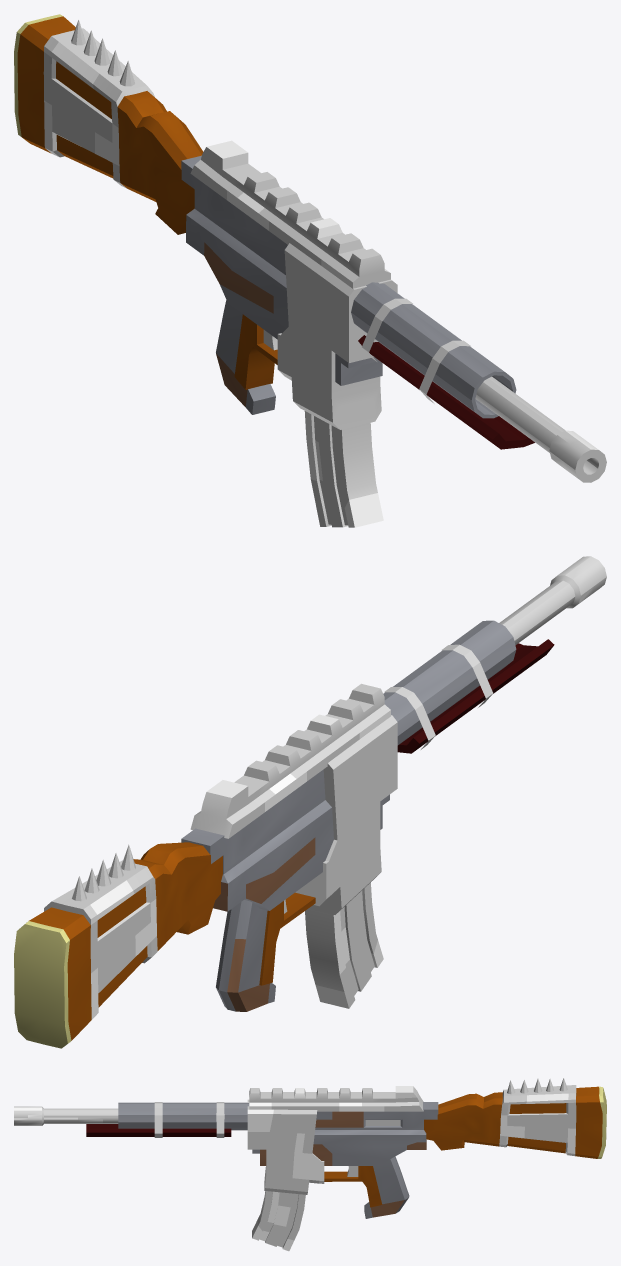
The model's file is Rifle.glb.
The picture shows the model from 3 angles, top to bottom: view 1: azimuth 30°, elevation 25°; view 2: azimuth 150°, elevation 25°; view 3: azimuth 270°, elevation 25°; orthographic projection. The views are drawn at different scales.
Parts seen in each view (by area): view 1: Rifle; view 2: Rifle; view 3: Rifle.
Part boxes in pixels (x1,y1,x2,y2): Rifle: (14,14,606,527); Rifle: (14,556,606,1048); Rifle: (14,1078,606,1251).
Bounding box in the file's own units: 0.1144 × 0.5181 × 1.64.
